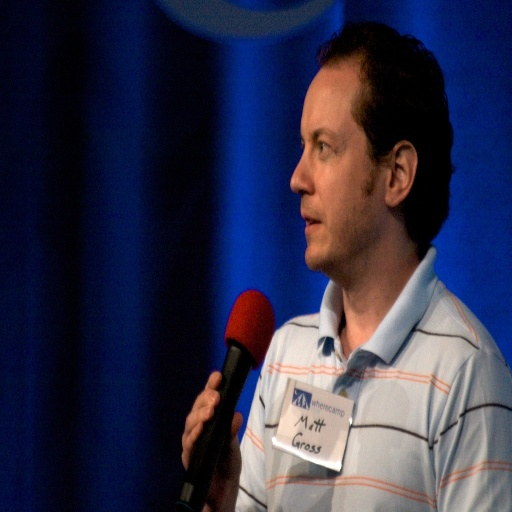hand: (181, 366, 241, 510)
